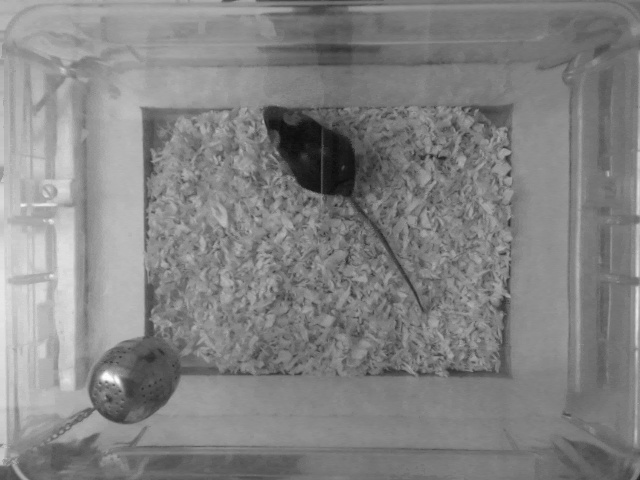mice: (254, 99, 432, 315)
